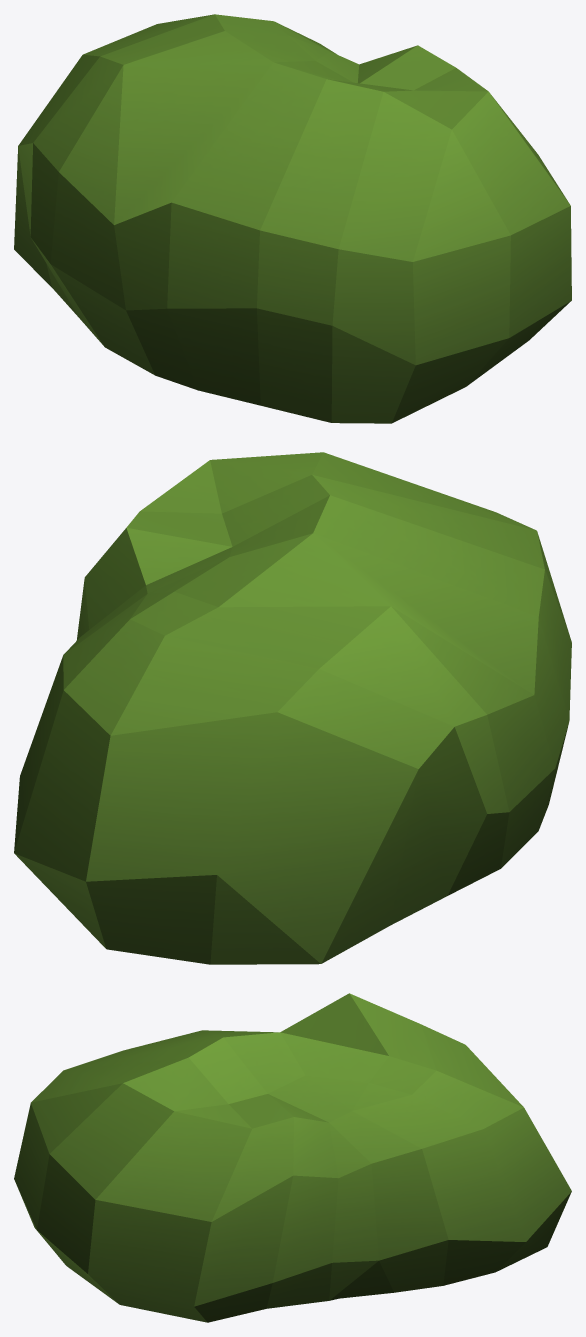
The model's file is Cavern_Bush-01.fbx.
The picture shows the model from 3 angles, top to bottom: view 1: azimuth 30°, elevation 25°; view 2: azimuth 150°, elevation 25°; view 3: azimuth 270°, elevation 25°; orthographic projection. The views are drawn at different scales.
Parts seen in each view (by area): view 1: Cavern_Bush-01; view 2: Cavern_Bush-01; view 3: Cavern_Bush-01.
Part boxes in pixels (x1,y1,x2,y2): Cavern_Bush-01: [14, 14, 571, 423]; Cavern_Bush-01: [14, 452, 571, 964]; Cavern_Bush-01: [14, 993, 571, 1322].
Bounding box in the file's own units: 229 × 128 × 309.
1 material, 1 textured.
